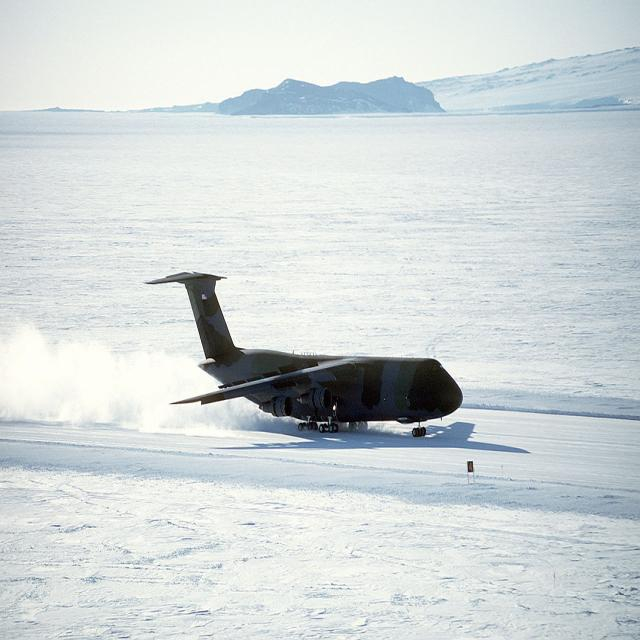MIL_Plane: (141, 270, 463, 438)
